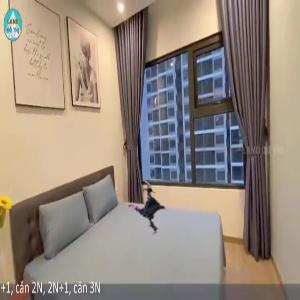drone: (122, 180, 179, 237)
